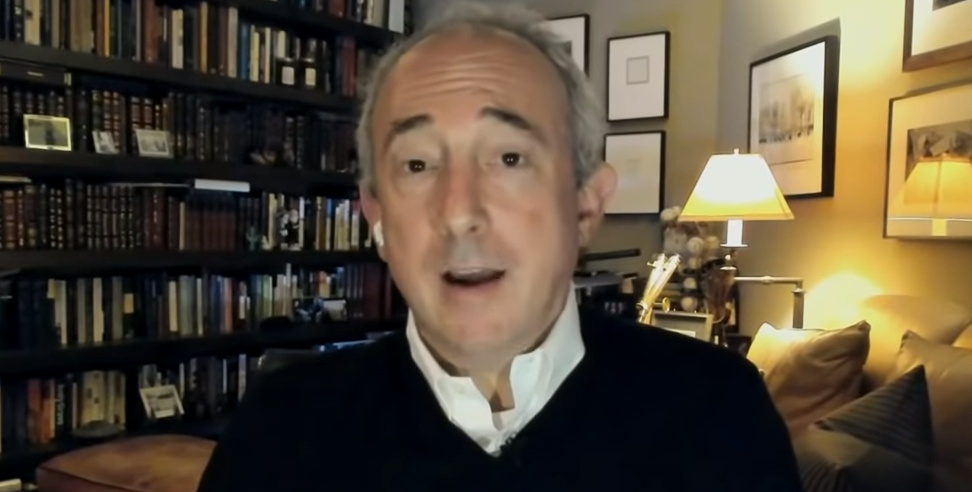mouth: (434, 260, 506, 296)
nose: (435, 209, 489, 235)
